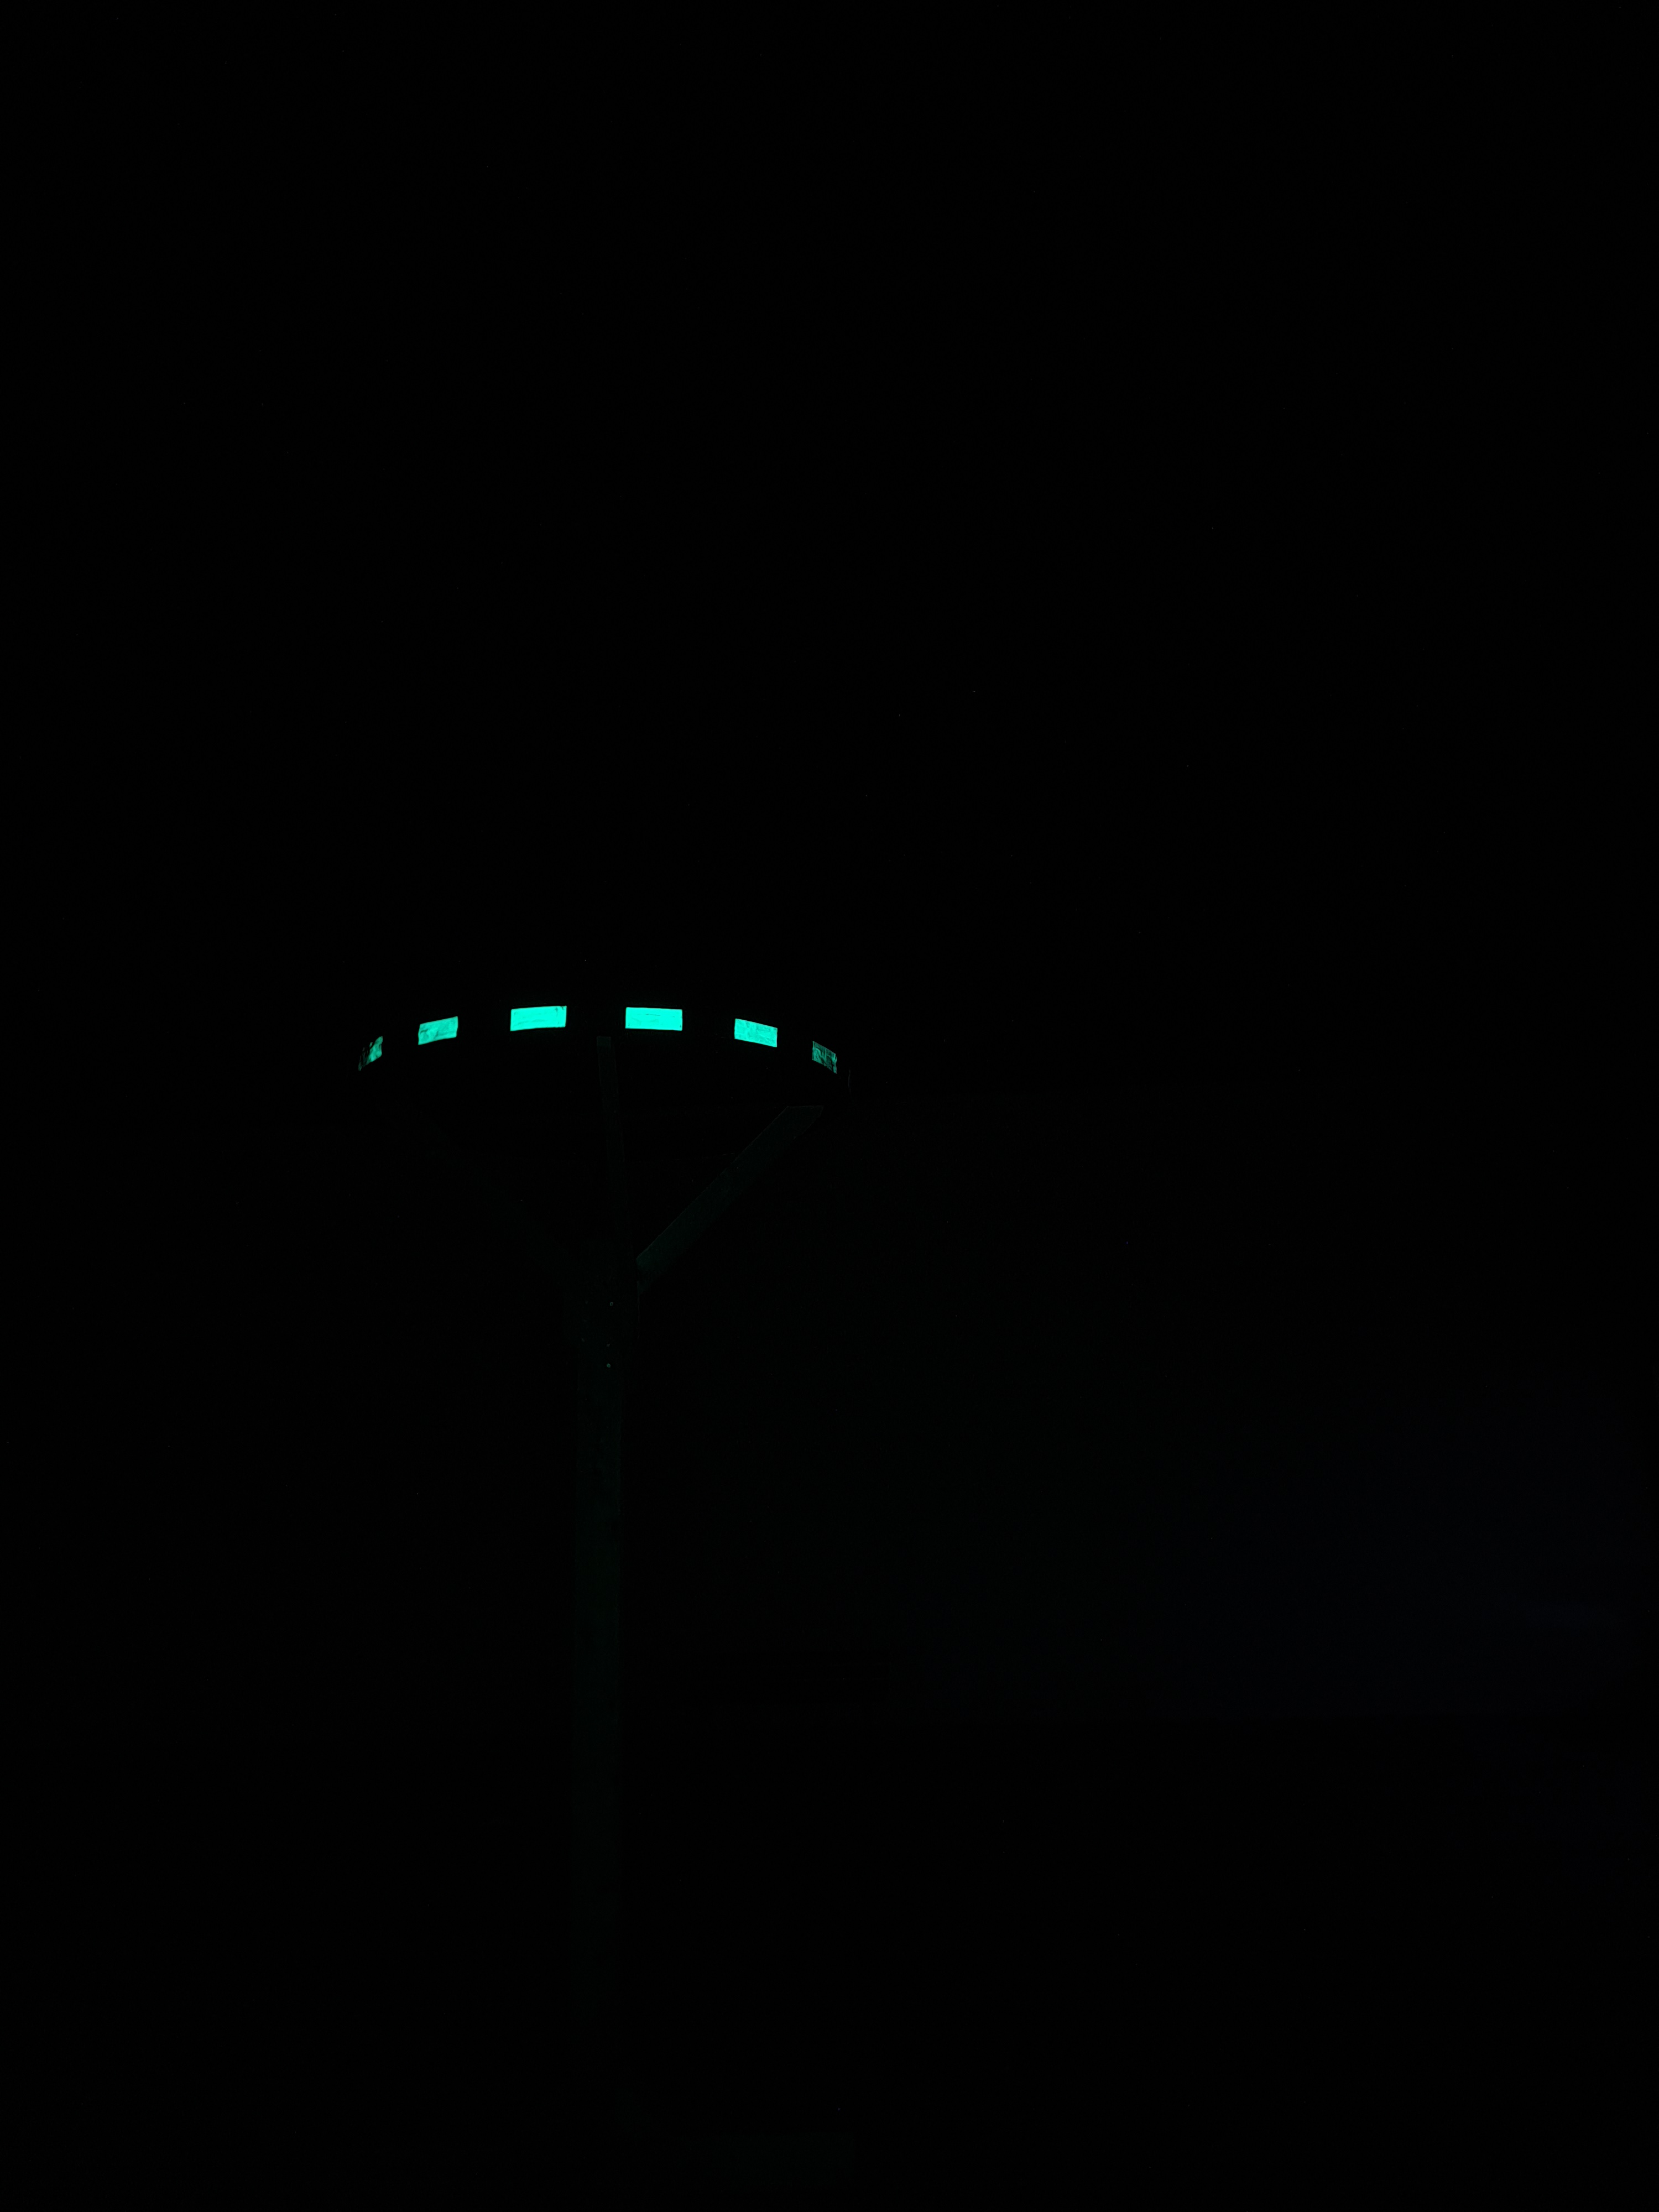hoop: (347, 996, 843, 1089)
